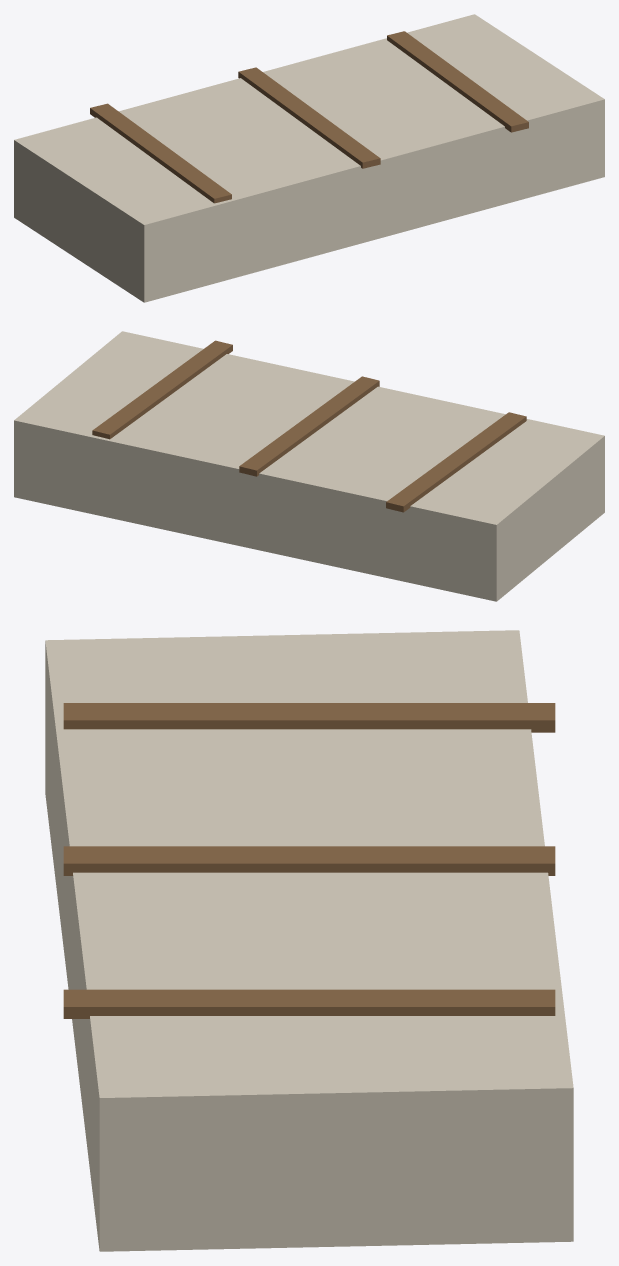
The model's file is Prop_Remains.fbx.
3 renders of one model, top to bottom at view 1: azimuth 30°, elevation 25°; view 2: azimuth 150°, elevation 25°; view 3: azimuth 270°, elevation 25°, orthographic. The views are drawn at different scales.
Visible parts, largest first — view 1: Prop_Remains; view 2: Prop_Remains; view 3: Prop_Remains.
Boxes of the visible parts, x1=… form: Prop_Remains: x1=14, y1=14, x2=604, y2=302; Prop_Remains: x1=14, y1=331, x2=604, y2=601; Prop_Remains: x1=45, y1=630, x2=573, y2=1251.
Size of the model in its own units: 0.3266 by 0.053 by 0.1558.
